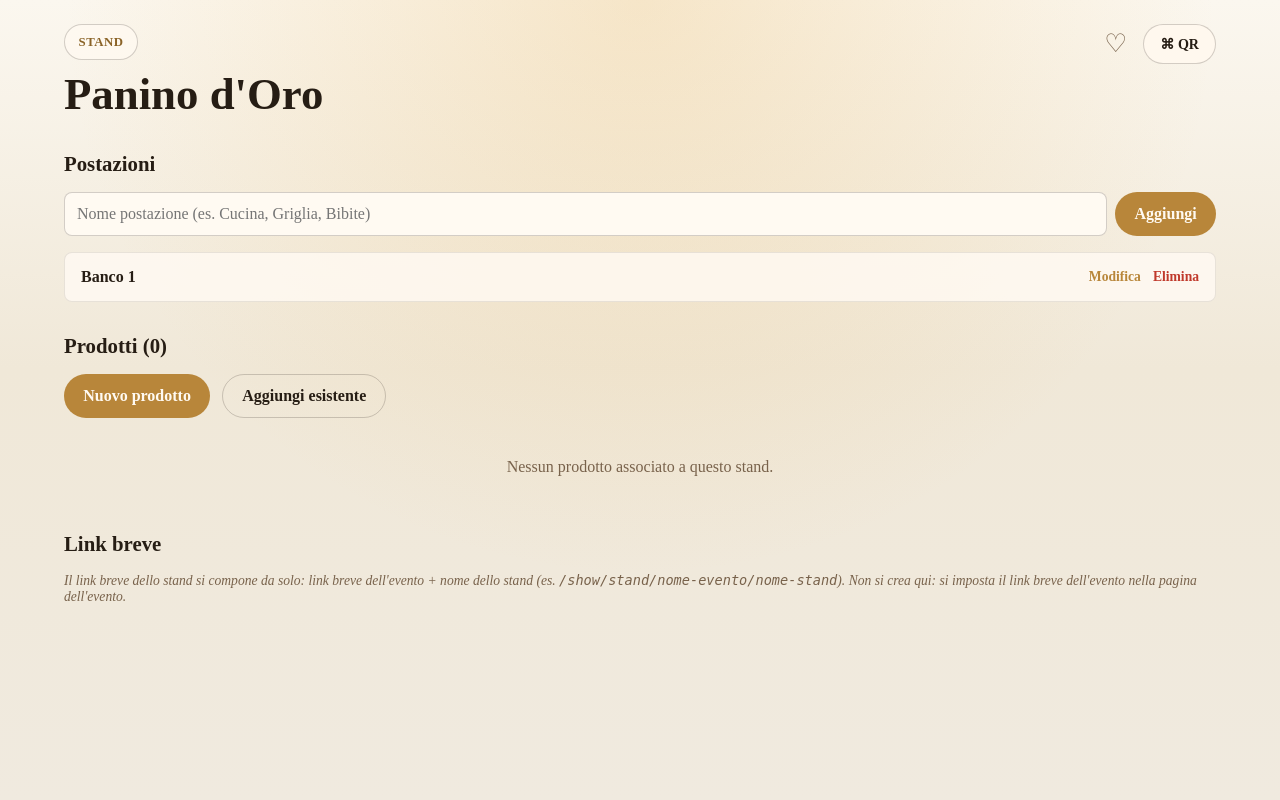
it: pagina dello stand — i due moduli prodotto › i due moduli si aprono in un pannello, non in fondo alla pagina
This screenshot has width=1280, height=800.
expect the heading "Panino d'Oro" is shown: met, box [64,68,323,120]
Click the button "Nuovo prodotto" at (137, 396), box [64,374,210,418]
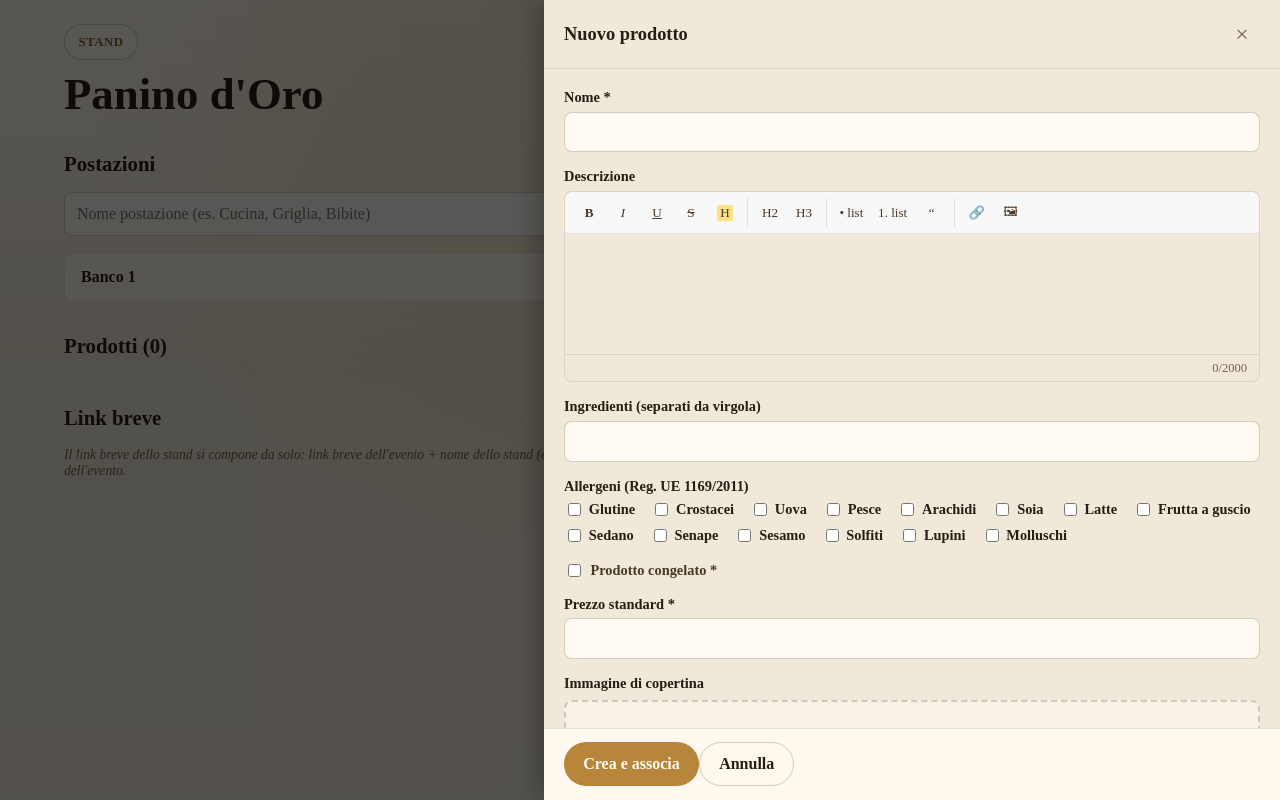
expect the dialog is shown: met, box [544,0,1279,799]
expect the field labelled "Nome *" is shown: met, box [564,112,1260,152]
Click the button "Annulla" at (747, 764), box [699,742,794,786]
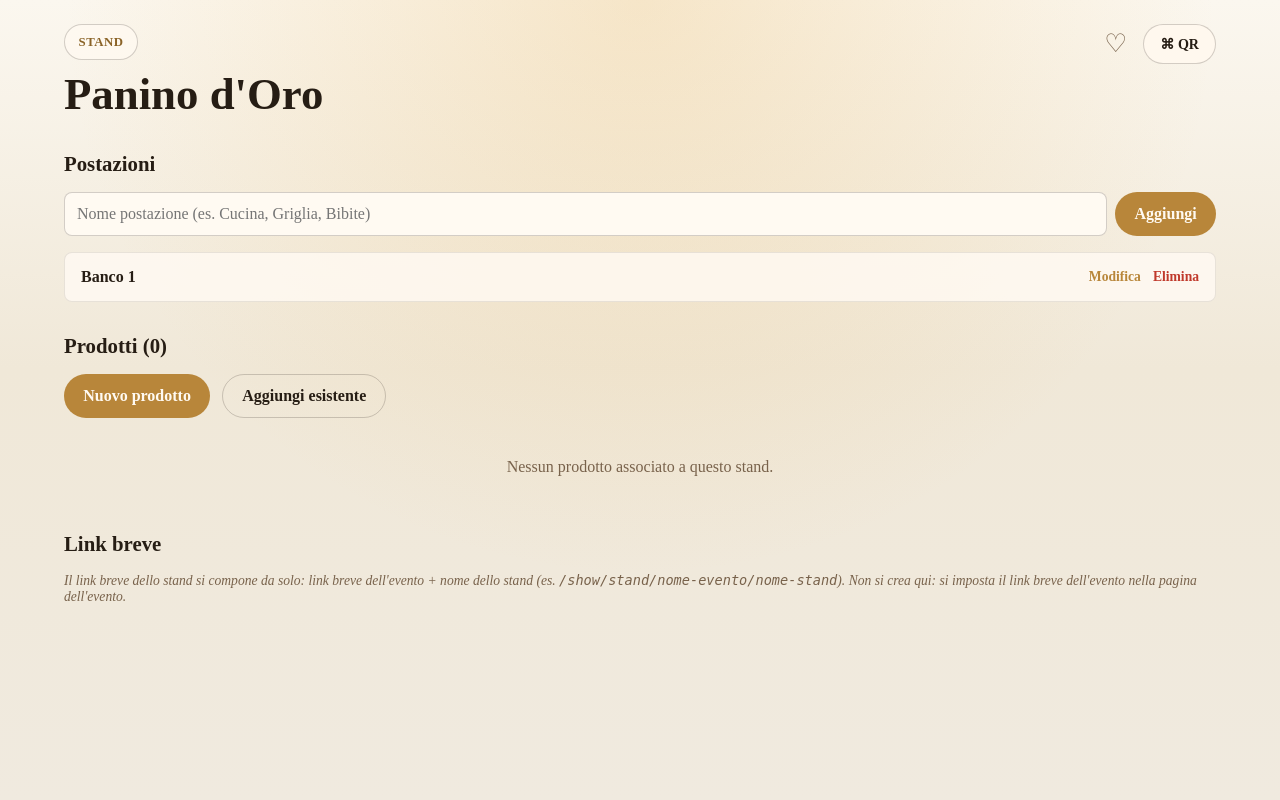
expect the dialog is gone: met
